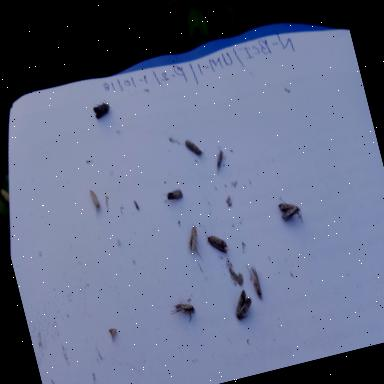pbw: (200, 216, 231, 258), (228, 284, 258, 324), (166, 294, 200, 328), (271, 195, 304, 230), (182, 219, 208, 262), (244, 258, 268, 304), (89, 95, 115, 124), (208, 142, 229, 174), (182, 132, 206, 160), (160, 184, 186, 206), (87, 186, 103, 218), (132, 198, 140, 212)
